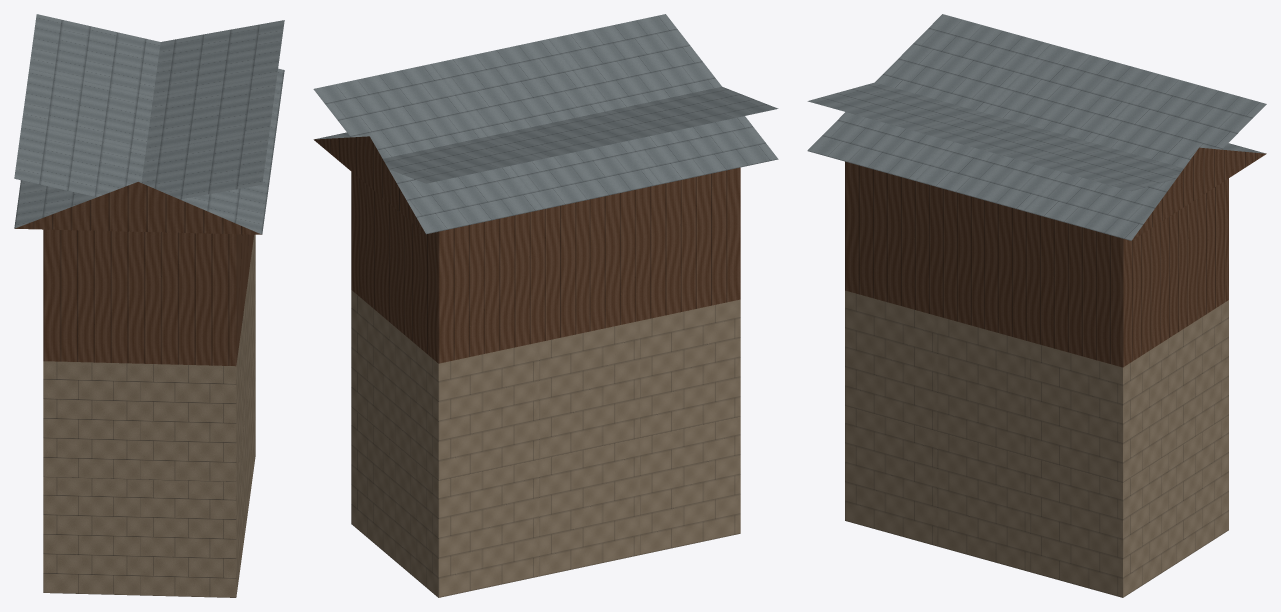
The model's file is bld_c14_36_405.gltf.
3 views of the same model, side by side, from view 1: azimuth 30°, elevation 25°; view 2: azimuth 150°, elevation 25°; view 3: azimuth 270°, elevation 25° (orthographic).
Visible parts, largest first — view 1: bld_c14_36_405; view 2: bld_c14_36_405; view 3: bld_c14_36_405.
Part boxes in pixels (left/top/right/bottom): bld_c14_36_405: left=14, top=14, right=284, bottom=597; bld_c14_36_405: left=313, top=14, right=778, bottom=597; bld_c14_36_405: left=807, top=14, right=1266, bottom=597.
Size of the model in its own units: 7.64 by 8.5 by 8.38.
4 materials, 4 textured.
